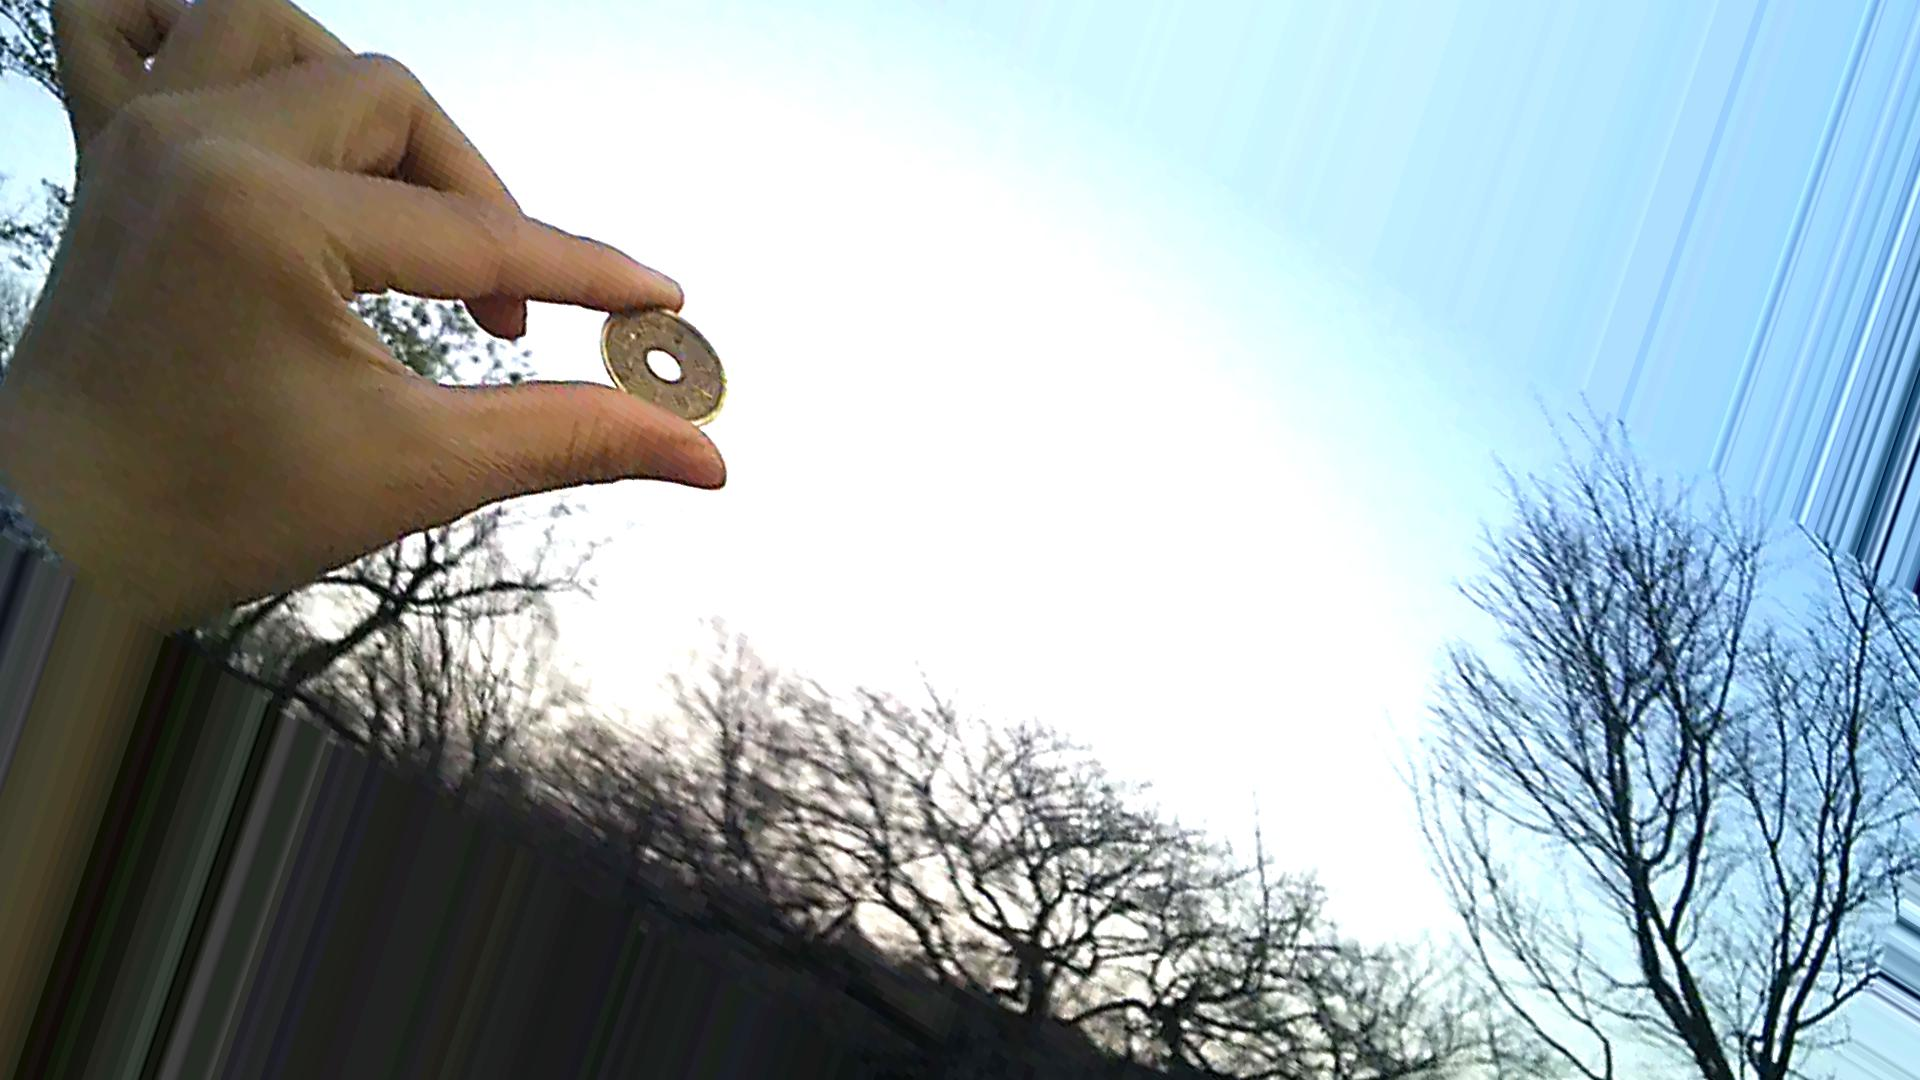5 Yen: (595, 298, 724, 433)
